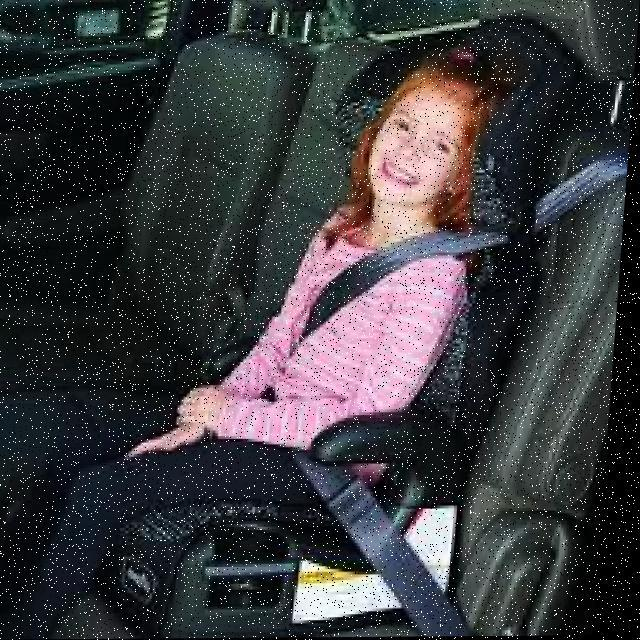seatbelt: (267, 193, 513, 543)
